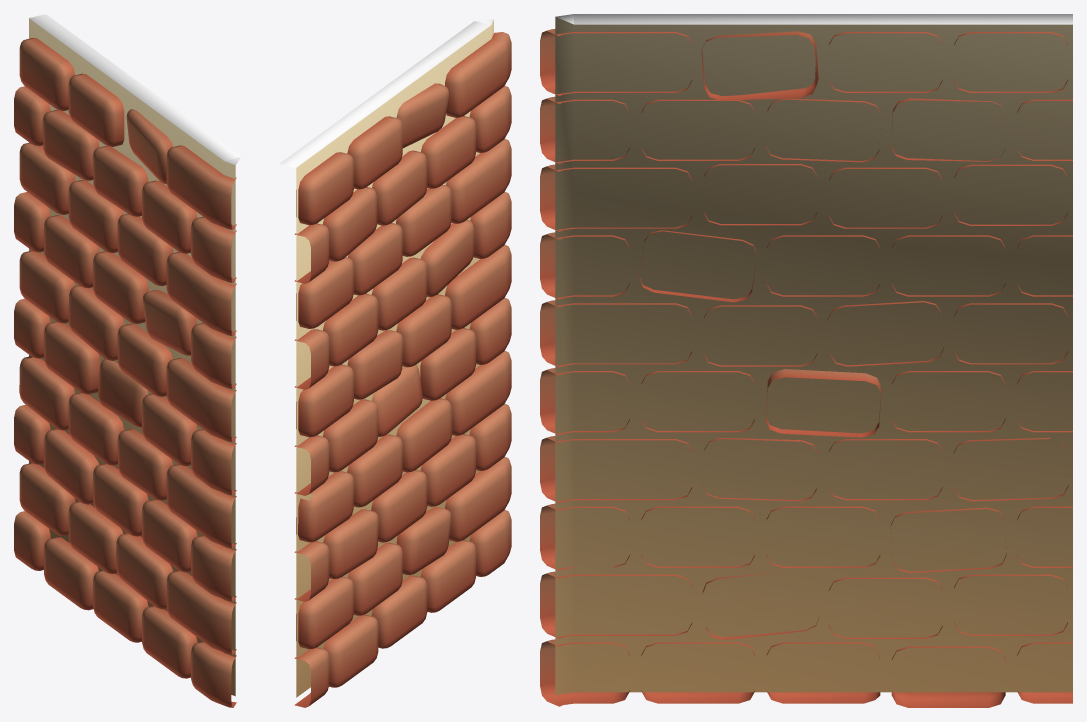
The model's file is BrickWallOuterRightCorner1_M.fbx.
3 views of the same model, side by side, from view 1: azimuth 30°, elevation 25°; view 2: azimuth 150°, elevation 25°; view 3: azimuth 270°, elevation 25° (orthographic). The views are drawn at different scales.
Visible parts, largest first — view 1: BrickWallCornerR; view 2: BrickWallCornerR; view 3: BrickWallCornerR.
Boxes of the visible parts, x1=… form: BrickWallCornerR: x1=14, y1=14, x2=240, y2=707; BrickWallCornerR: x1=279, y1=19, x2=511, y2=707; BrickWallCornerR: x1=540, y1=14, x2=1072, y2=707.
Size of the model in its own units: 3.06 by 0.1993 by 2.14.
